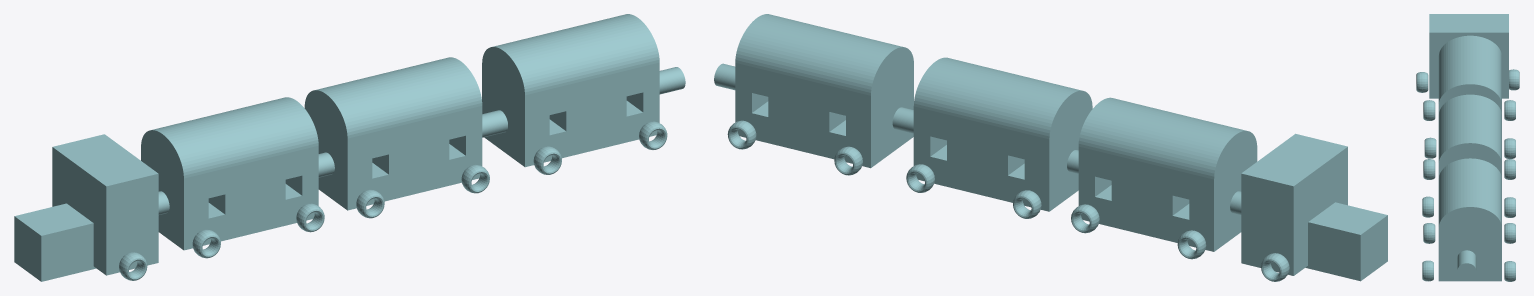
The model's file is Epic Vihelmo.glb.
3 views of the same model, side by side, from view 1: azimuth 30°, elevation 25°; view 2: azimuth 150°, elevation 25°; view 3: azimuth 270°, elevation 25° (orthographic). The views are drawn at different scales.
Visible parts, largest first — view 1: Mesh_Mesh_head_geo.001_lambert2SG.001; view 2: Mesh_Mesh_head_geo.001_lambert2SG.001; view 3: Mesh_Mesh_head_geo.001_lambert2SG.001.
Part boxes in pixels (x1,y1,x2,y2): Mesh_Mesh_head_geo.001_lambert2SG.001: [14, 14, 685, 281]; Mesh_Mesh_head_geo.001_lambert2SG.001: [714, 14, 1387, 281]; Mesh_Mesh_head_geo.001_lambert2SG.001: [1416, 14, 1519, 281].
Bounding box in the file's own units: 236 × 37 × 44.
